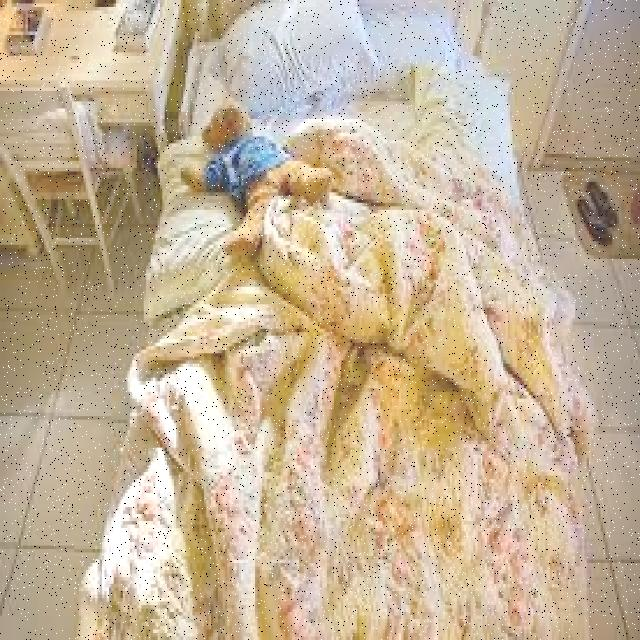bed: (113, 1, 588, 640)
